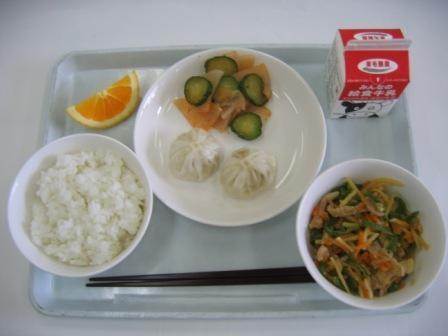Citrus: (68, 64, 150, 131)
Milk: (327, 20, 418, 126)
Rice: (2, 137, 148, 271)
Salad: (163, 49, 285, 130)
manty: (158, 130, 291, 207)
vegetable based cooked food: (292, 169, 441, 305)
